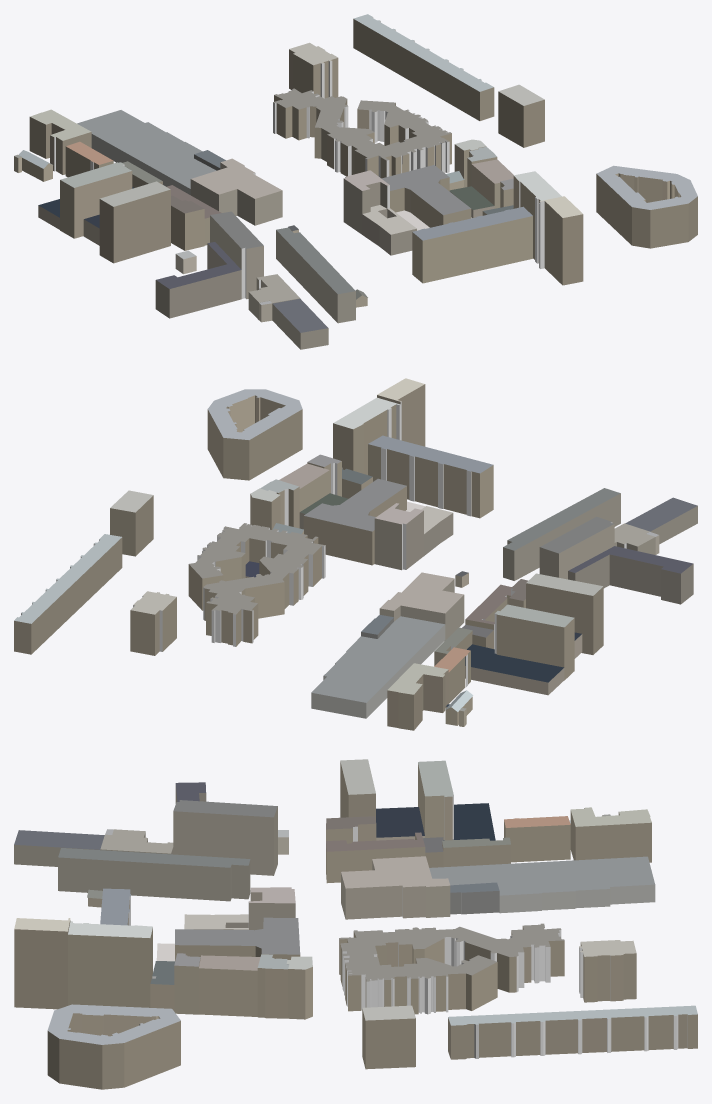
The picture shows the model from 3 angles, top to bottom: view 1: azimuth 30°, elevation 25°; view 2: azimuth 150°, elevation 25°; view 3: azimuth 270°, elevation 25°; orthographic projection. The views are drawn at different scales.
Parts seen in each view (by area): view 1: tuile; view 2: tuile; view 3: tuile.
Part boxes in pixels (x1,y1,x2,y2): tuile: (14, 14, 697, 349); tuile: (14, 378, 697, 730); tuile: (14, 759, 697, 1089).
Size of the model in its own units: 286 by 40.04 by 298.
